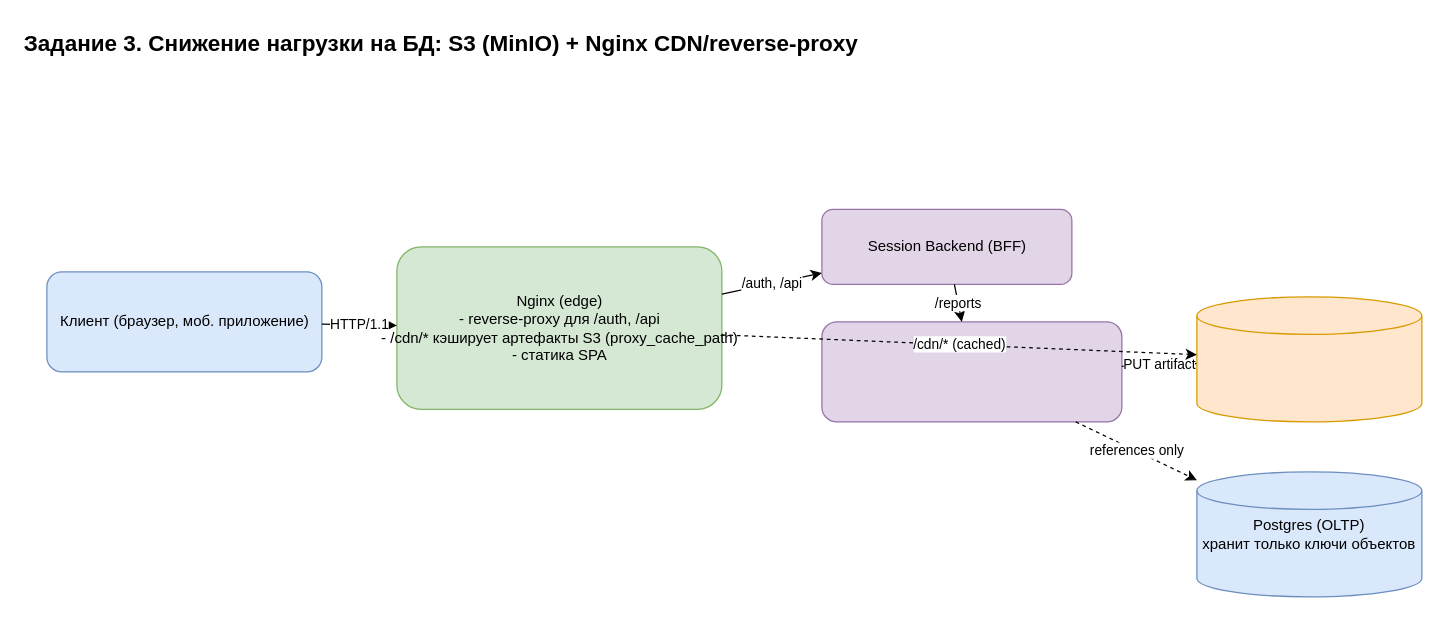
Image size: 1444x619. Some labels were removed from this diagram. Each missing label, with the centre of its shape:
"MinIO / S3 bucket: bionic-reports" belongs at [1309,359].
"reports-api генерирует артефакт, upload в S3, отдаёт presigned + CDN URL" belongs at [971,371].
